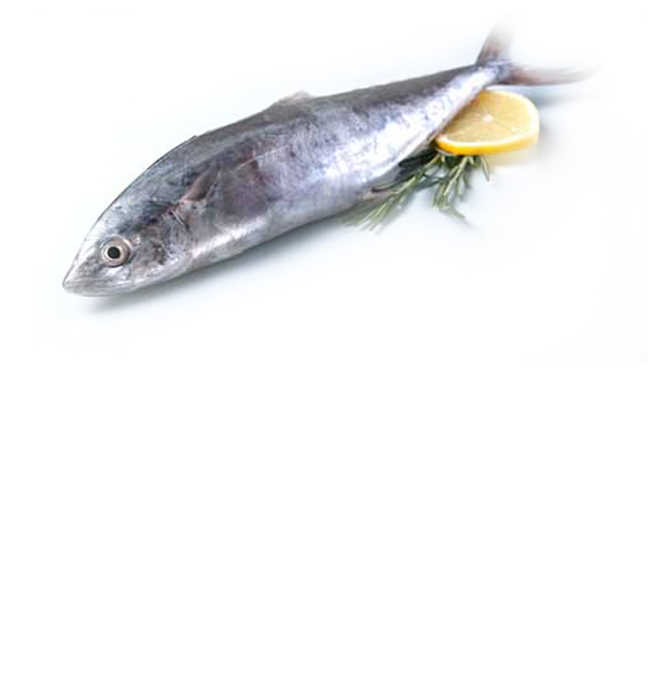Surmai: (59, 12, 601, 303)
